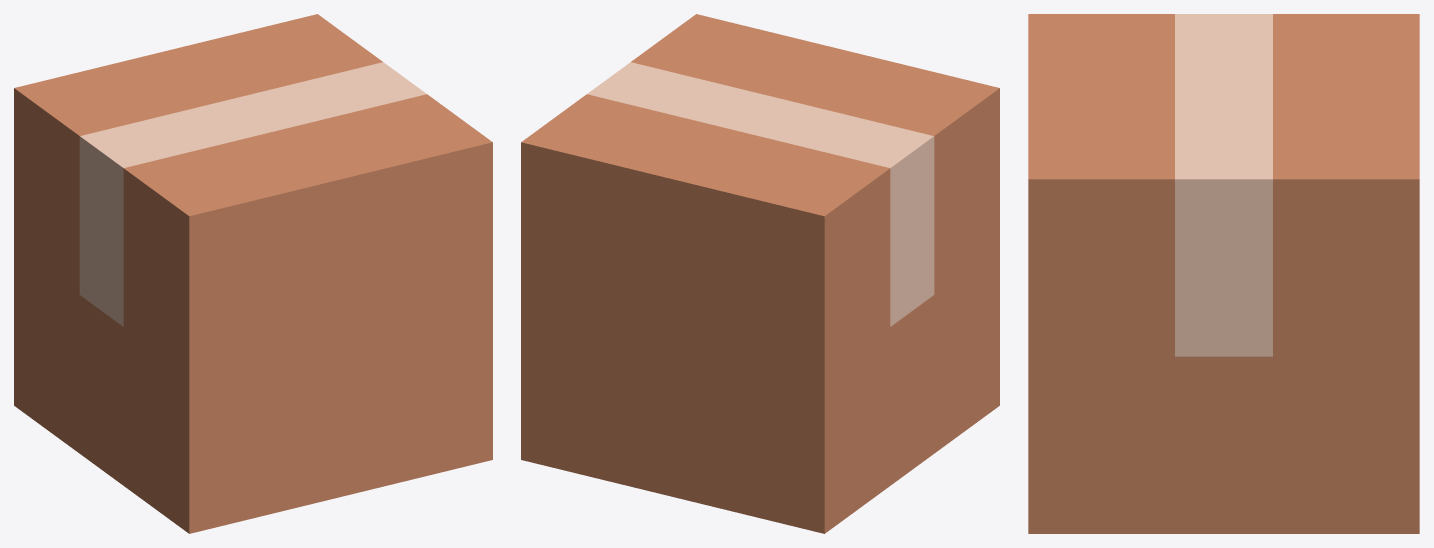
The model's file is BoxSmall-transformed.glb.
The picture shows the model from 3 angles, left to right: view 1: azimuth 30°, elevation 25°; view 2: azimuth 150°, elevation 25°; view 3: azimuth 270°, elevation 25°; orthographic projection. The views are drawn at different scales.
Visible parts, largest first — view 1: box-small; view 2: box-small; view 3: box-small.
Boxes of the visible parts, box(x1,y1,x2,y2) form: box-small: box(14, 14, 492, 533); box-small: box(521, 14, 999, 533); box-small: box(1028, 14, 1419, 533).
Size of the model in its own units: 0.5 by 0.5 by 0.5.
